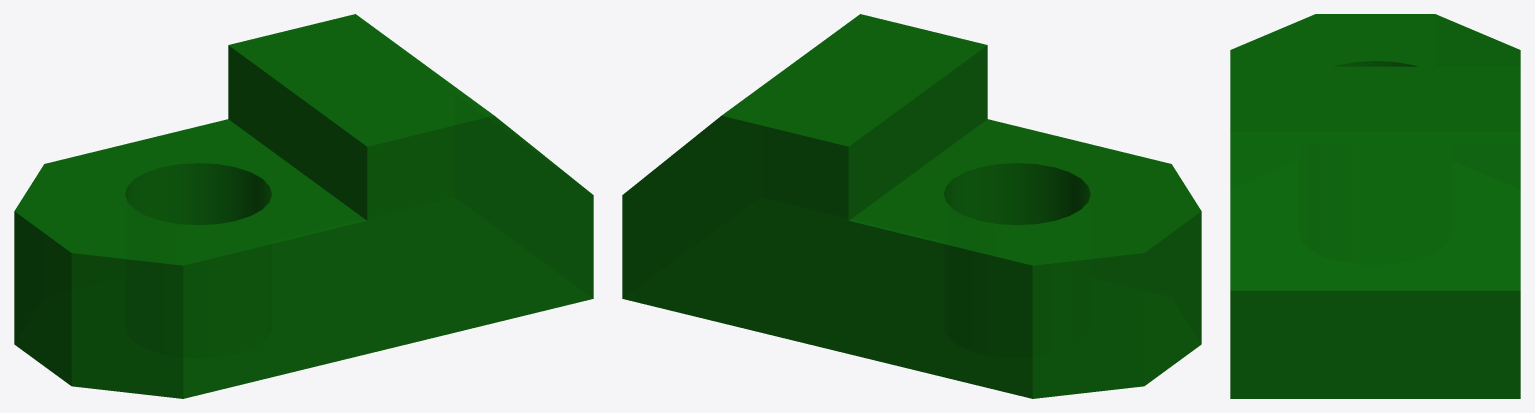
The picture shows the model from 3 angles, left to right: view 1: azimuth 30°, elevation 25°; view 2: azimuth 150°, elevation 25°; view 3: azimuth 270°, elevation 25°; orthographic projection. The views are drawn at different scales.
Visible parts, largest first — view 1: SketchUp (×2); view 2: SketchUp (×2); view 3: SketchUp (×2).
Boxes of the visible parts, x1,y1,x2,y2 form: SketchUp (×2): [14, 14, 593, 398]; SketchUp (×2): [622, 14, 1201, 398]; SketchUp (×2): [1230, 14, 1520, 398].
Bounding box in the file's own units: 2677 × 1339 × 1102.
